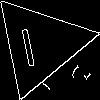I: (15, 19, 39, 67)
